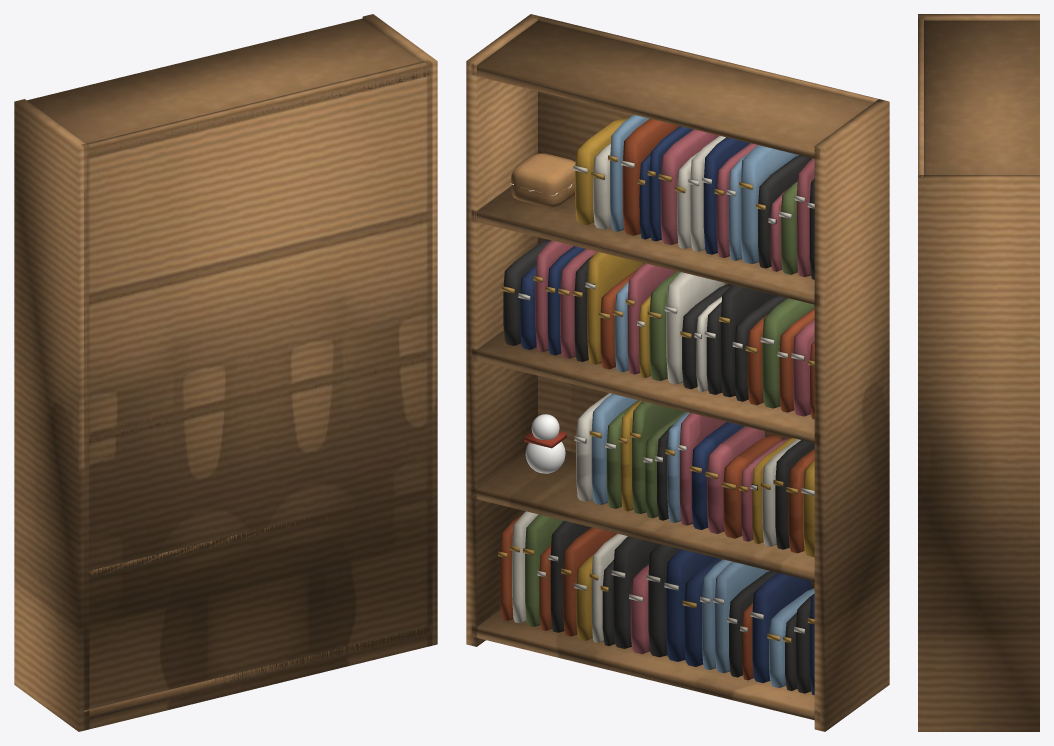
The model's file is bookshelf_a.glb.
3 views of the same model, side by side, from view 1: azimuth 30°, elevation 25°; view 2: azimuth 150°, elevation 25°; view 3: azimuth 270°, elevation 25° (orthographic). The views are drawn at different scales.
Parts seen in each view (by area): view 1: bookshelf_a_wood; view 2: bookshelf_a_wood, bookshelf_a_felt_charcoal, bookshelf_a_felt_rose, bookshelf_a_felt_indigo, bookshelf_a_felt_ivory, bookshelf_a_felt_rust, bookshelf_a_felt_sky, bookshelf_a_felt_moss, bookshelf_a_felt_mustard, bookshelf_a_felt_tan, bookshelf_a_felt_gold, bookshelf_a_cotton; view 3: bookshelf_a_wood.
Boxes of the visible parts, box(x1,y1,x2,y2) form: bookshelf_a_wood: box(14, 14, 437, 731); bookshelf_a_wood: box(466, 14, 889, 731); bookshelf_a_felt_charcoal: box(503, 155, 814, 693); bookshelf_a_felt_rose: box(535, 129, 814, 654); bookshelf_a_felt_indigo: box(520, 126, 814, 695); bookshelf_a_felt_ivory: box(512, 136, 814, 642); bookshelf_a_felt_rust: box(500, 118, 814, 680); bookshelf_a_felt_sky: box(591, 115, 814, 687); bookshelf_a_felt_moss: box(525, 181, 814, 626); bookshelf_a_felt_mustard: box(575, 117, 814, 640); bookshelf_a_felt_tan: box(511, 153, 575, 207); bookshelf_a_felt_gold: box(498, 155, 814, 642); bookshelf_a_cotton: box(525, 414, 565, 473); bookshelf_a_wood: box(918, 14, 1039, 731).
Size of the model in its own units: 2.06 by 3.2 by 0.64.
Materials: 14 (12 with a texture image).
